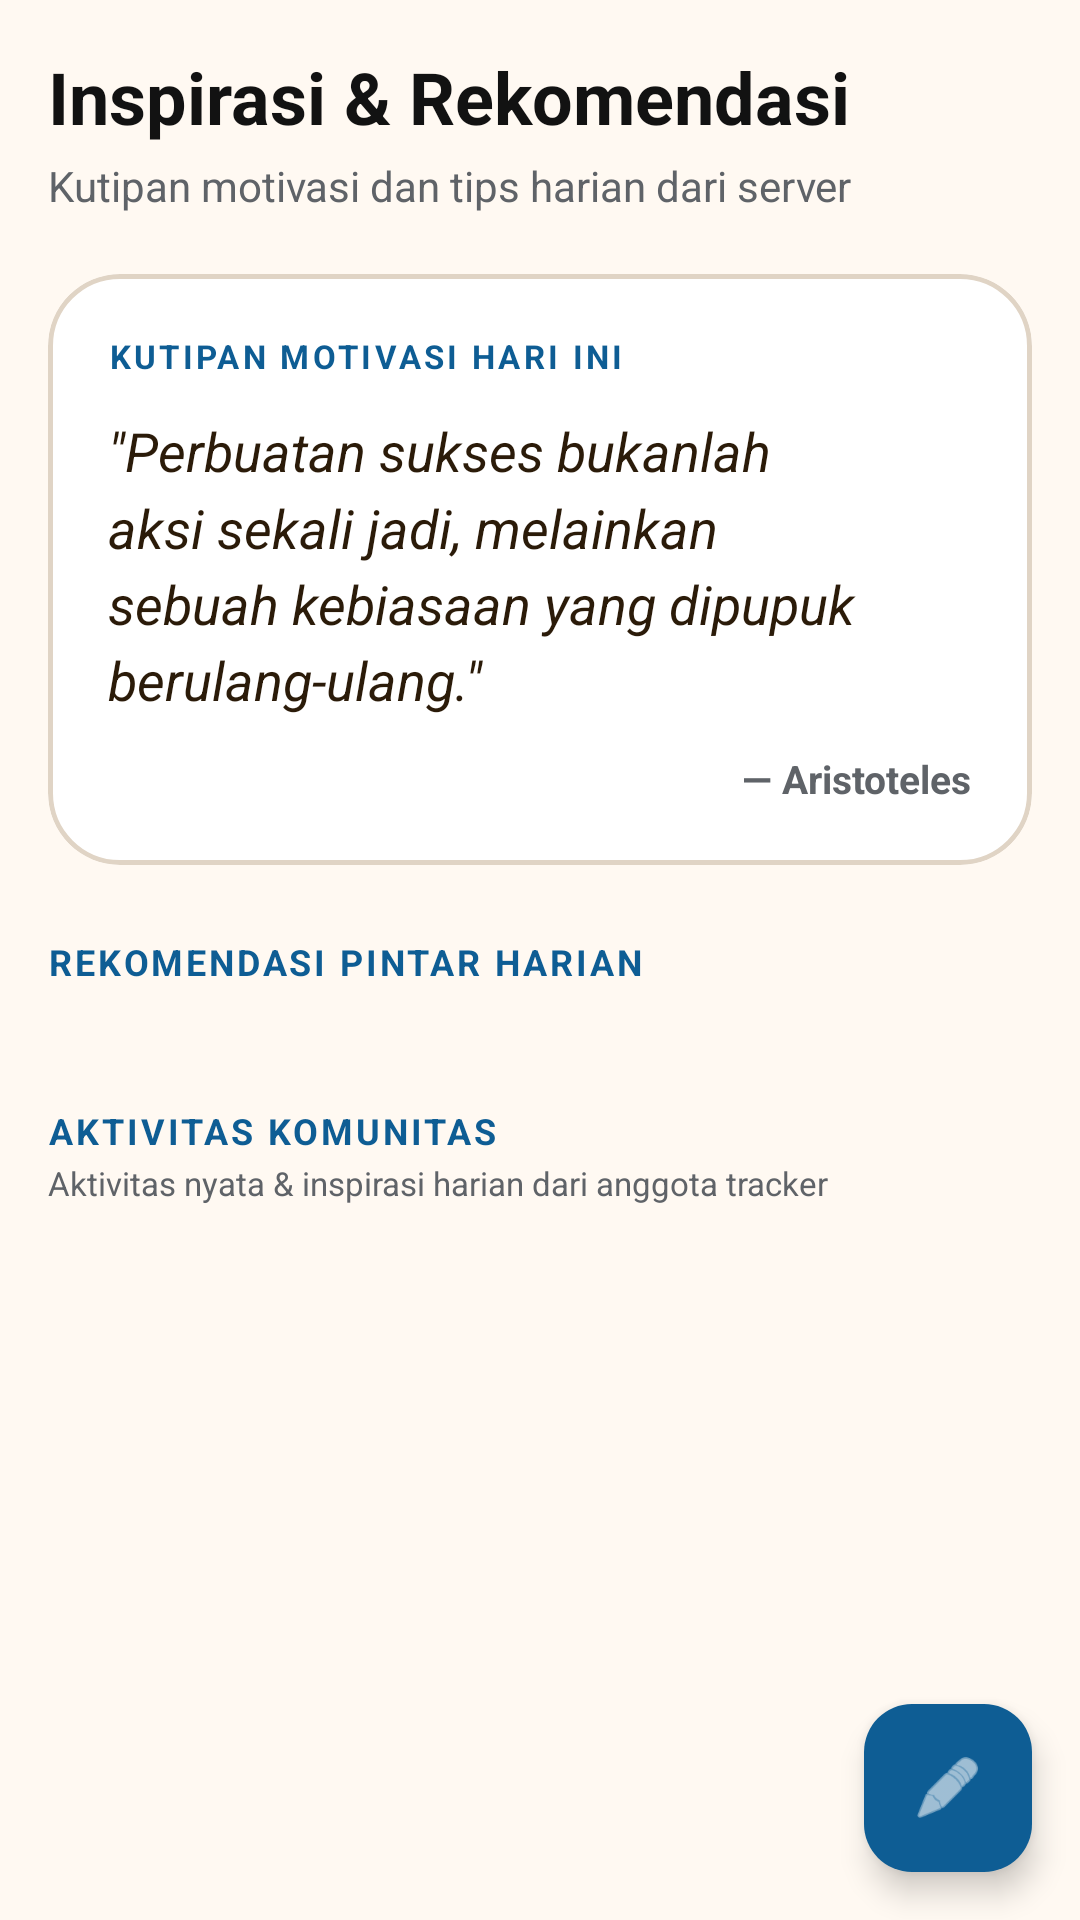

Screen size 1080w x 1920h. Icon name, then its box in pixels as (x1, y1, x2, y2):
Bagikan Aktivitas Positif Anda: (864, 1704, 1032, 1872)
